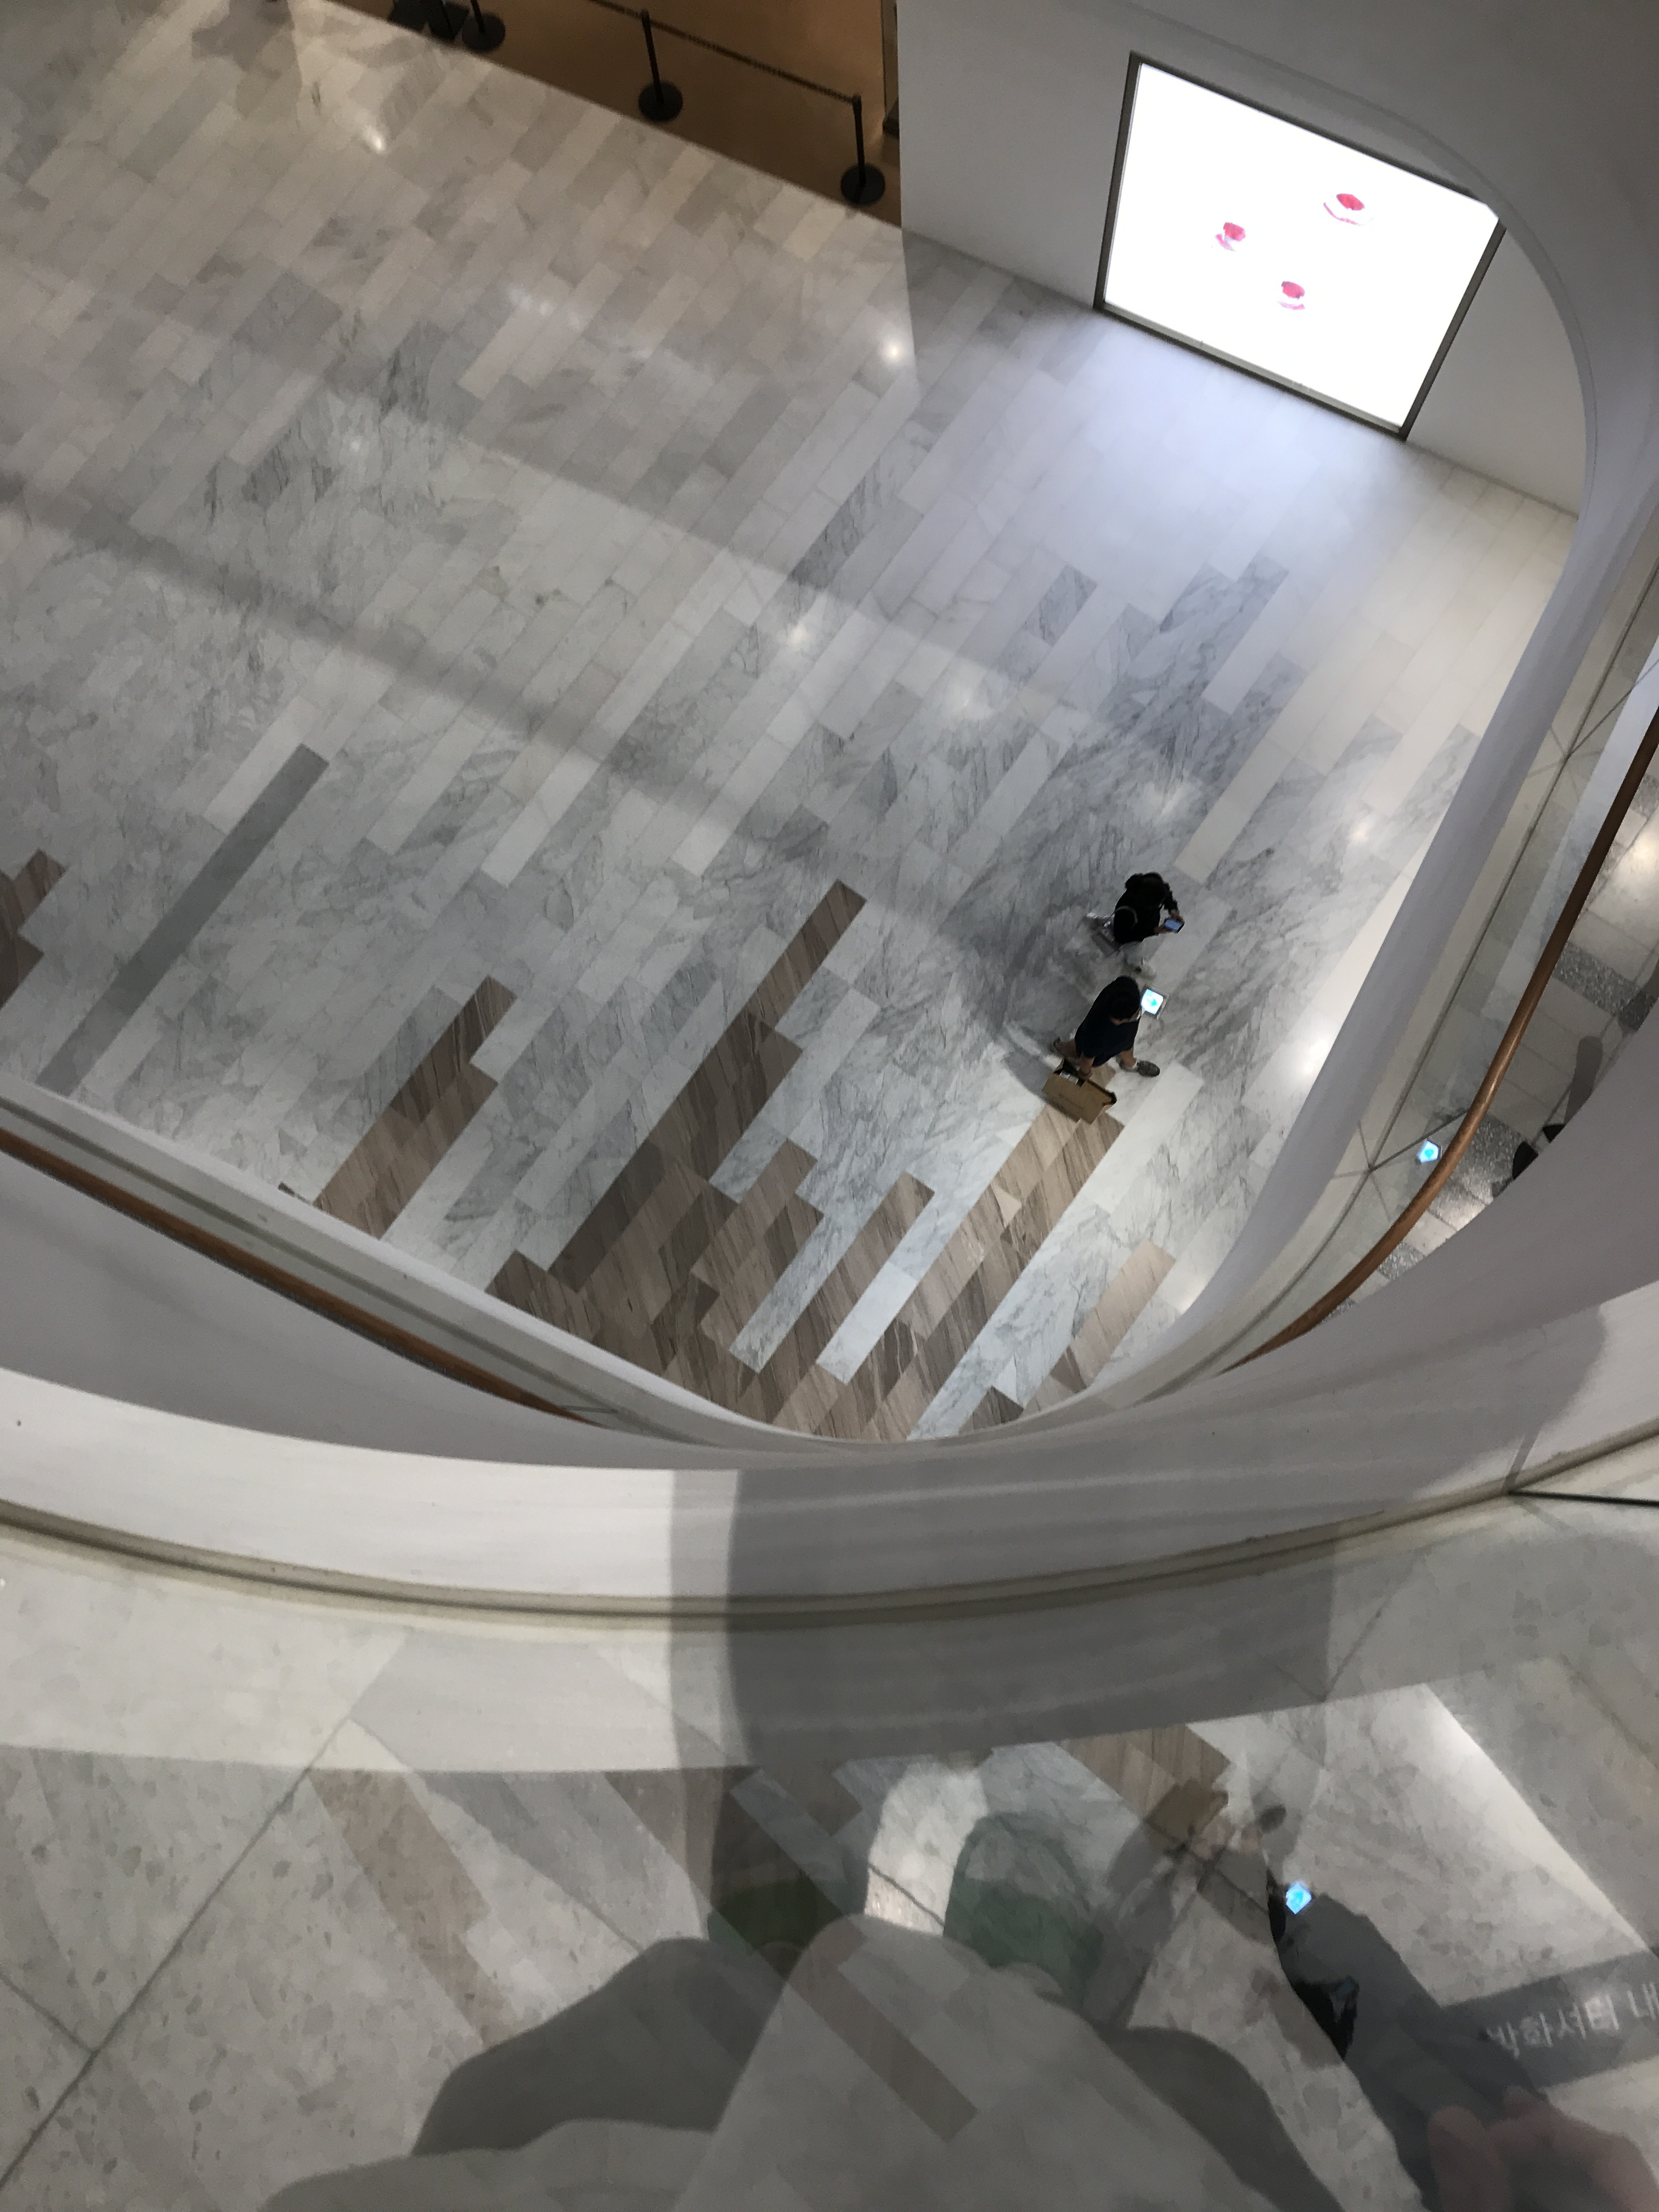person: (1041, 975, 1165, 1126), (1086, 874, 1187, 984)
